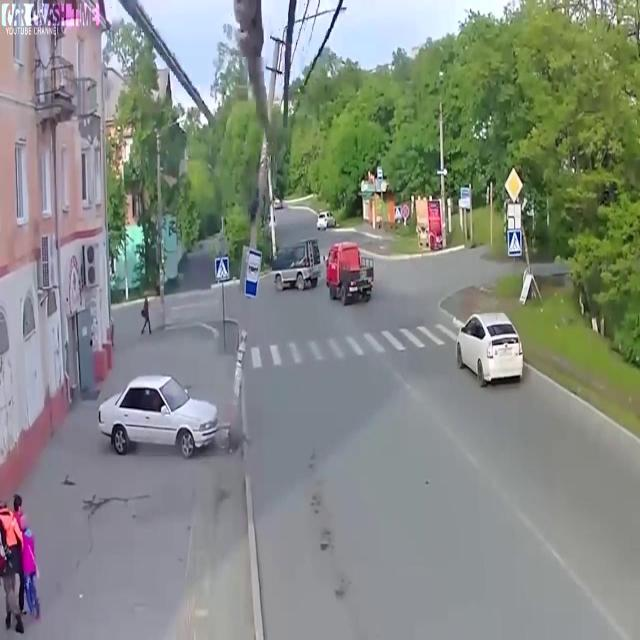accident: (87, 357, 255, 467)
non_accident: (267, 235, 381, 313)
